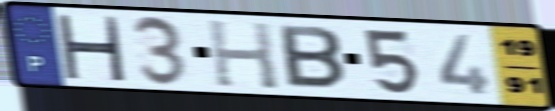3: (130, 13, 188, 89)
4: (434, 32, 493, 97)
5: (360, 26, 423, 96)
B: (277, 23, 349, 92)
H: (205, 17, 282, 92), (52, 12, 128, 84)
